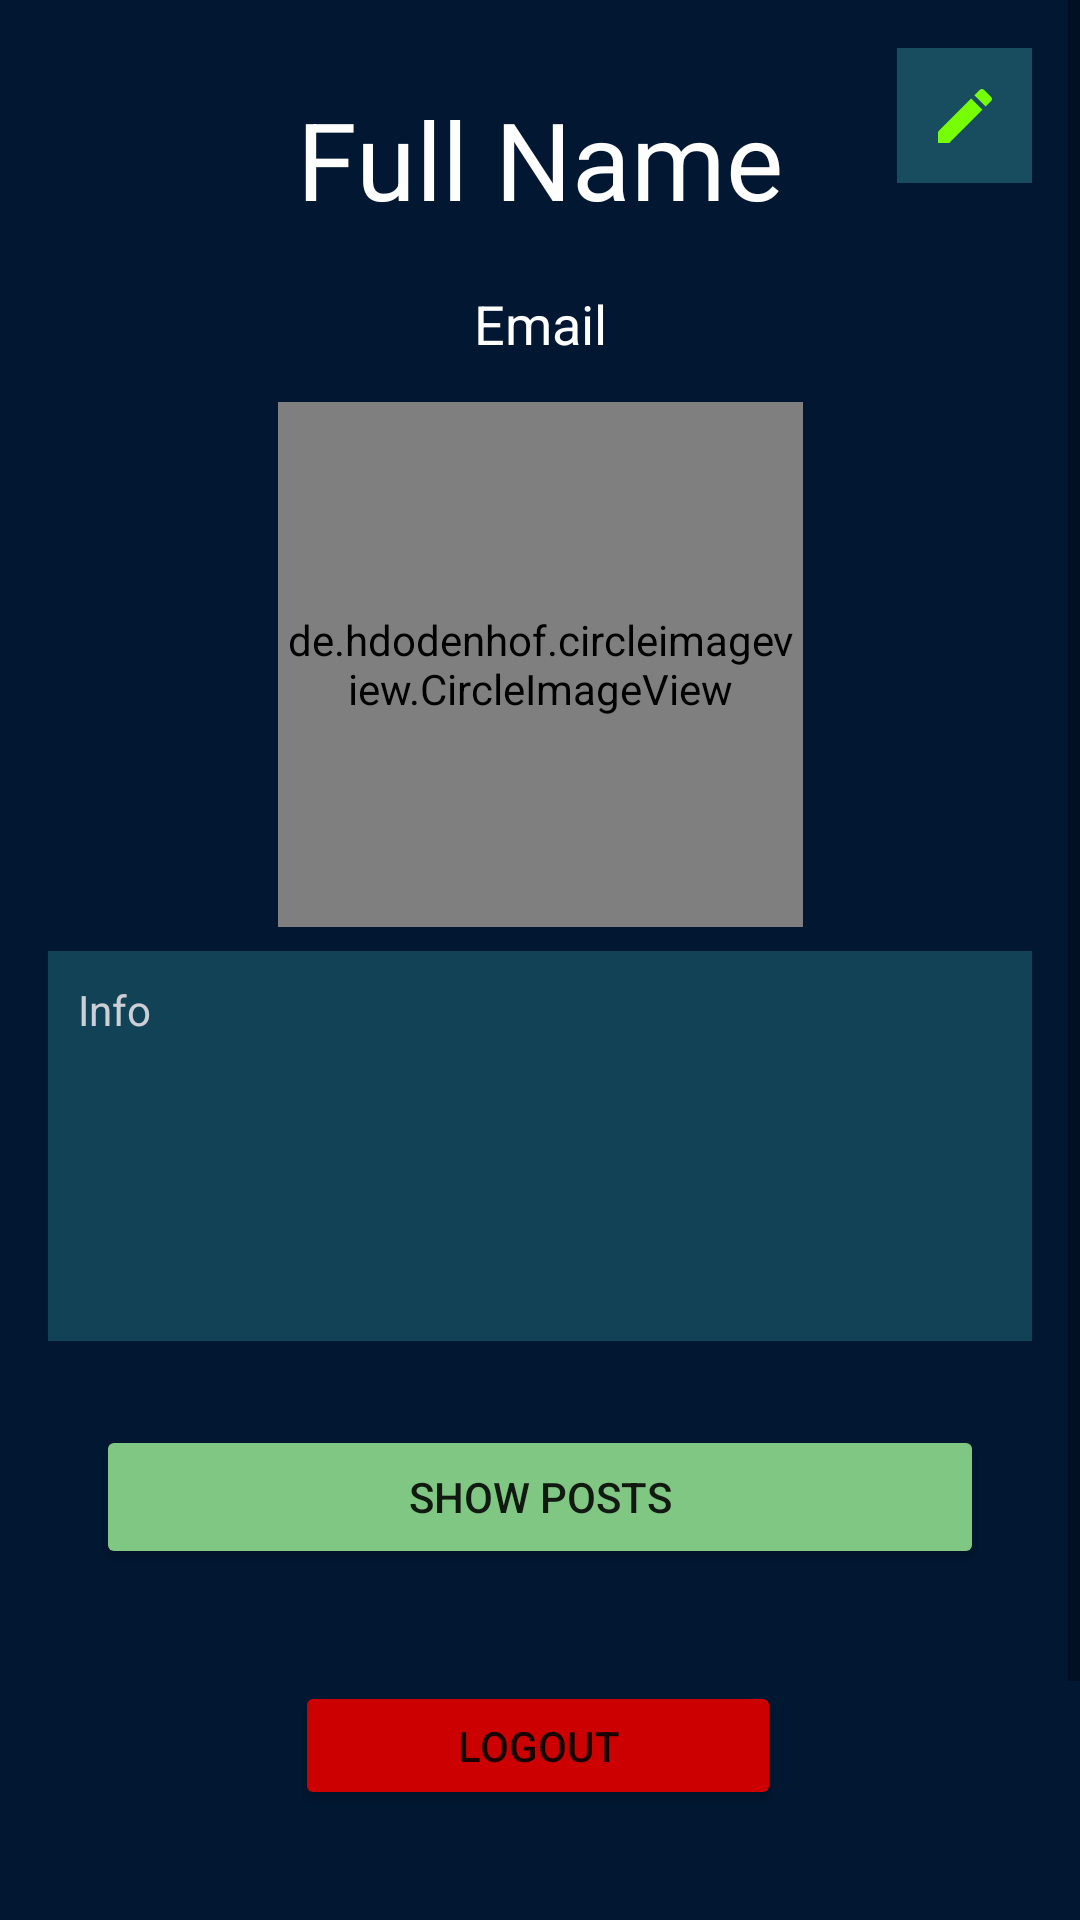

Icon bounding boxes for this 1080w x 1920h phone screenshot, format {"left": x1, "top": y1, "right": x2, "bottom": y2}:
edit: {"left": 897, "top": 48, "right": 1032, "bottom": 183}
